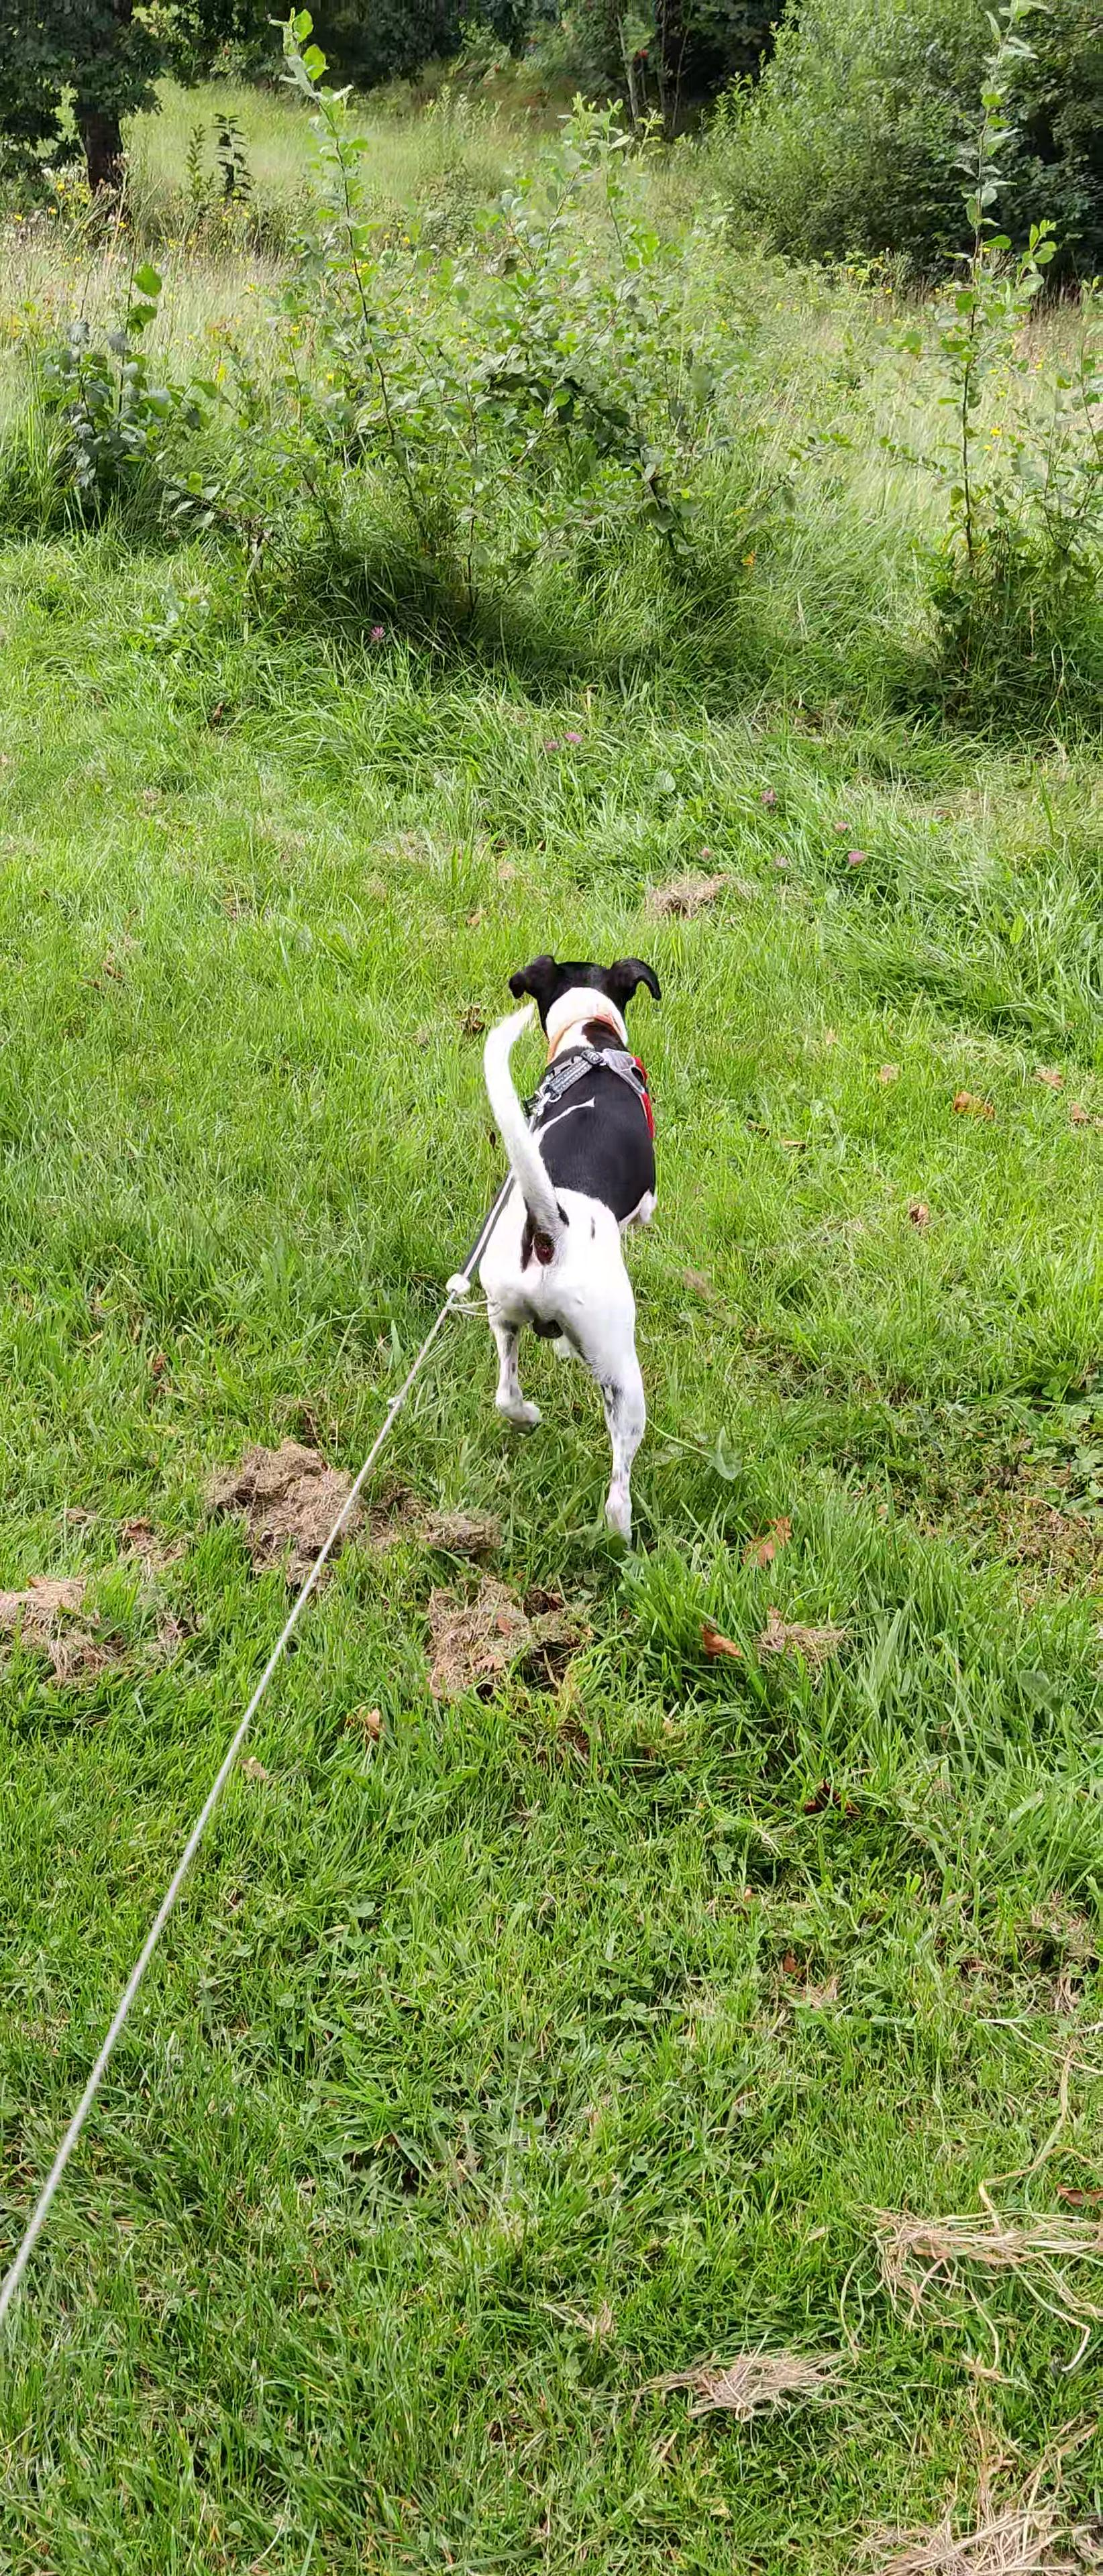Dog: (464, 950, 674, 1549)
